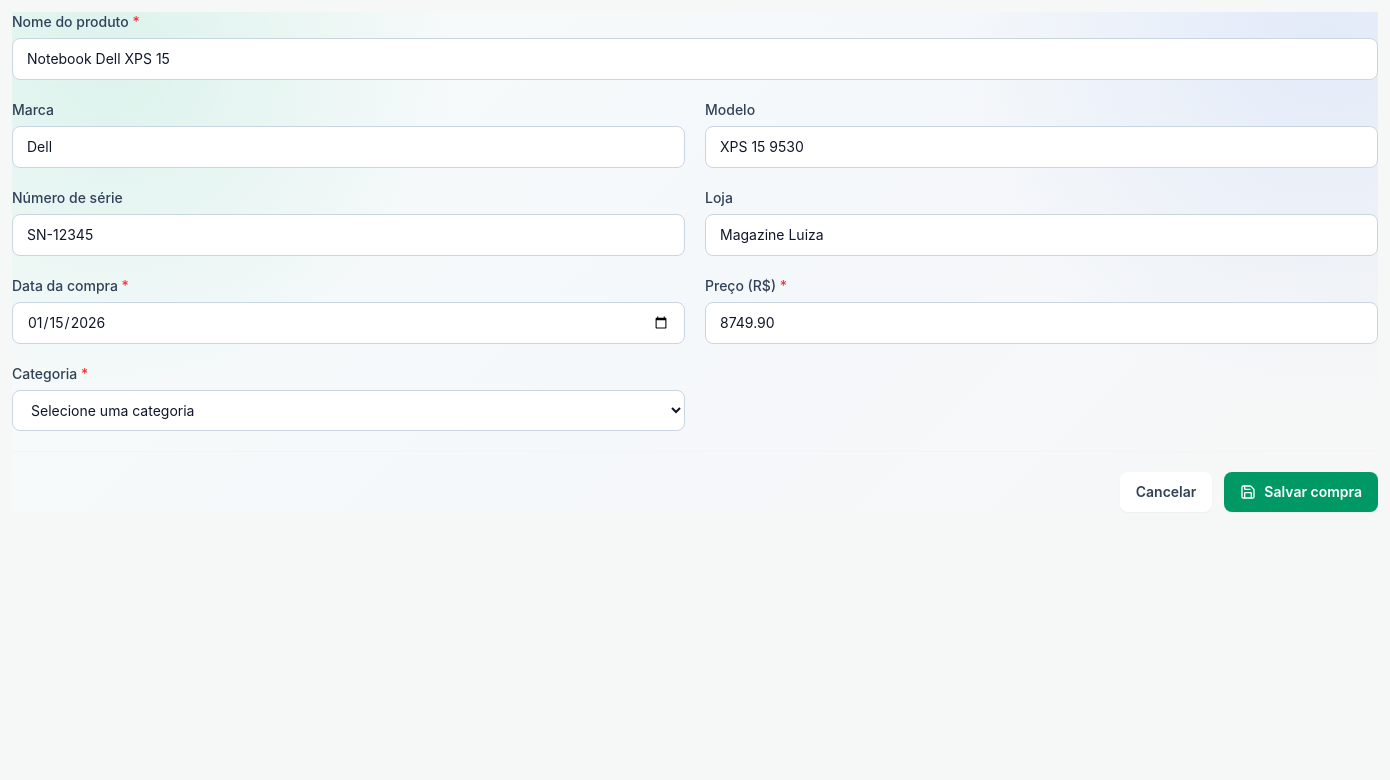
it: PurchaseForm — campo Categoria (select) › exige categoria ao salvar (validação existente preservada)
The width and height of the screenshot is (1390, 780).
Step 1. Click the button "Salvar compra" → click(1301, 492), box [1224, 472, 1378, 512]
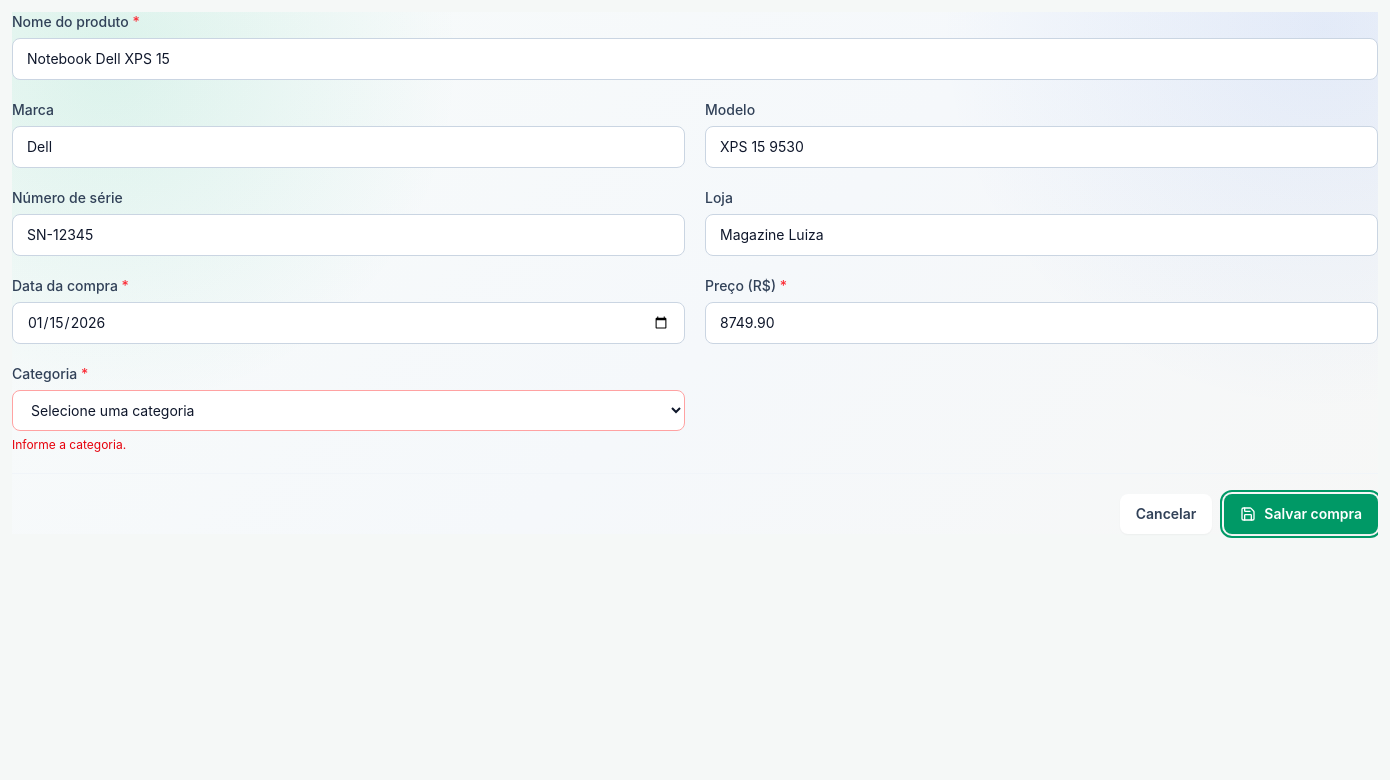
expect the text "Informe a categoria." is shown: met, box [12, 437, 126, 452]
